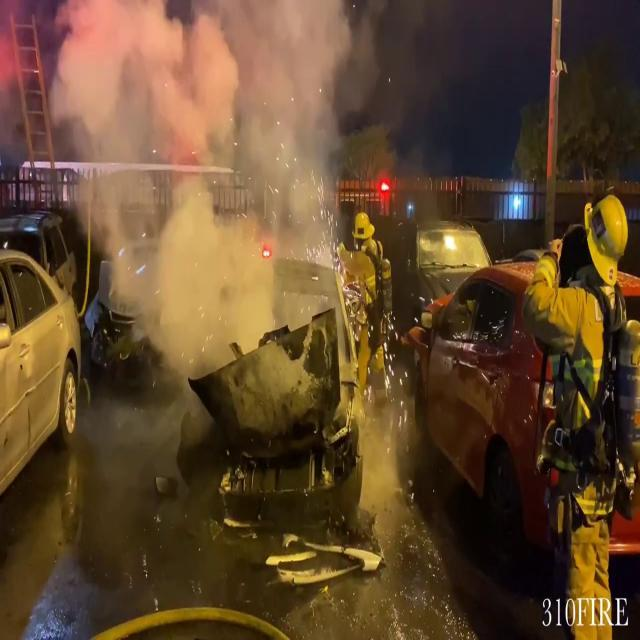Smoke: (46, 0, 364, 349)
